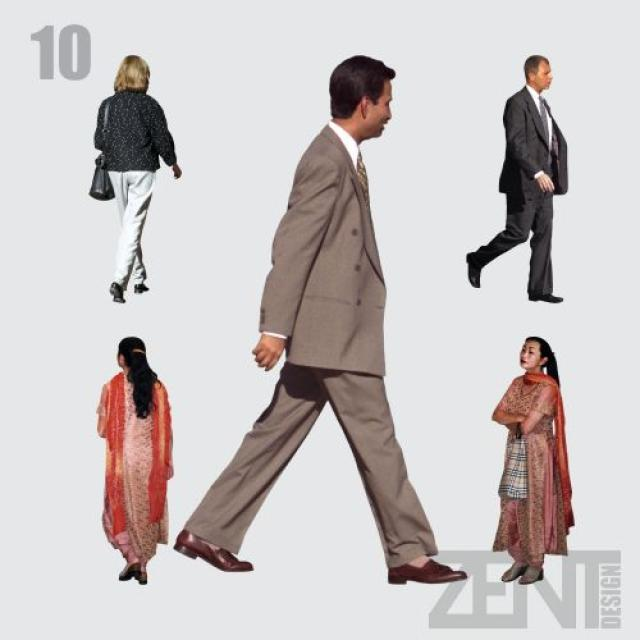person: (173, 54, 467, 584), (466, 54, 568, 303), (92, 54, 182, 303), (490, 335, 575, 584), (95, 335, 174, 585)
